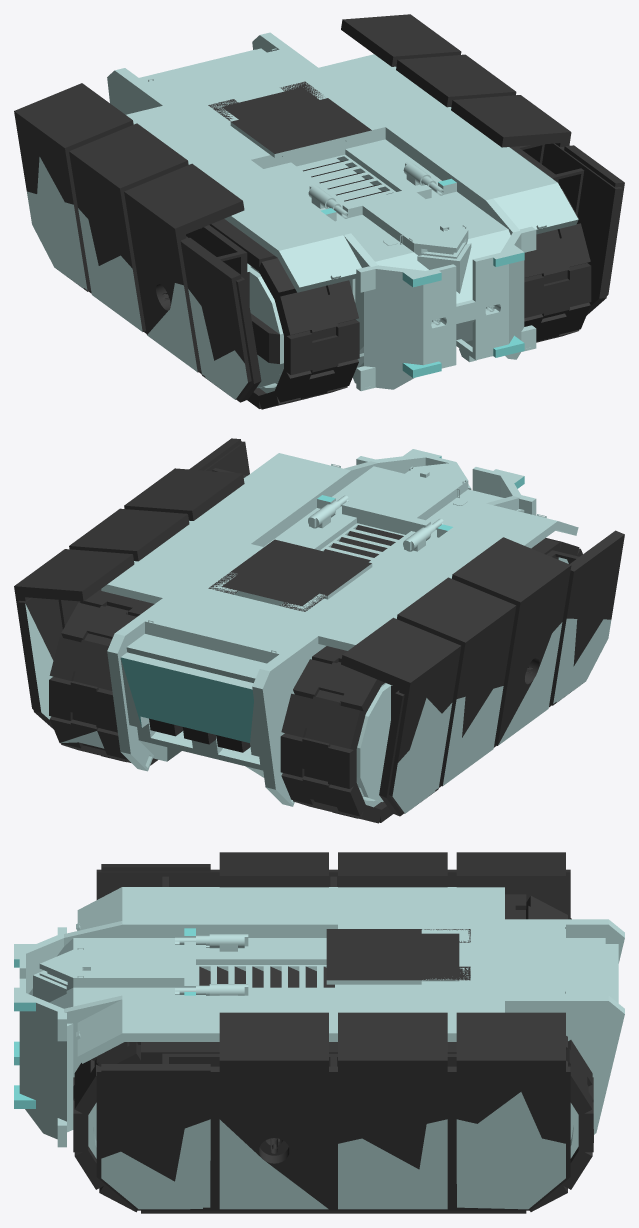
The model's file is tank_base.fbx.
3 views of the same model, one above another, from view 1: azimuth 30°, elevation 25°; view 2: azimuth 150°, elevation 25°; view 3: azimuth 270°, elevation 25° (orthographic). The views are drawn at different scales.
Parts seen in each view (by area): view 1: polySurface67; view 2: polySurface67; view 3: polySurface67.
Part boxes in pixels (x1,y1,x2,y2): polySurface67: (14,14,624,409); polySurface67: (14,438,624,823); polySurface67: (14,852,624,1213).
Size of the model in its own units: 58.28 by 24.86 by 72.26.
